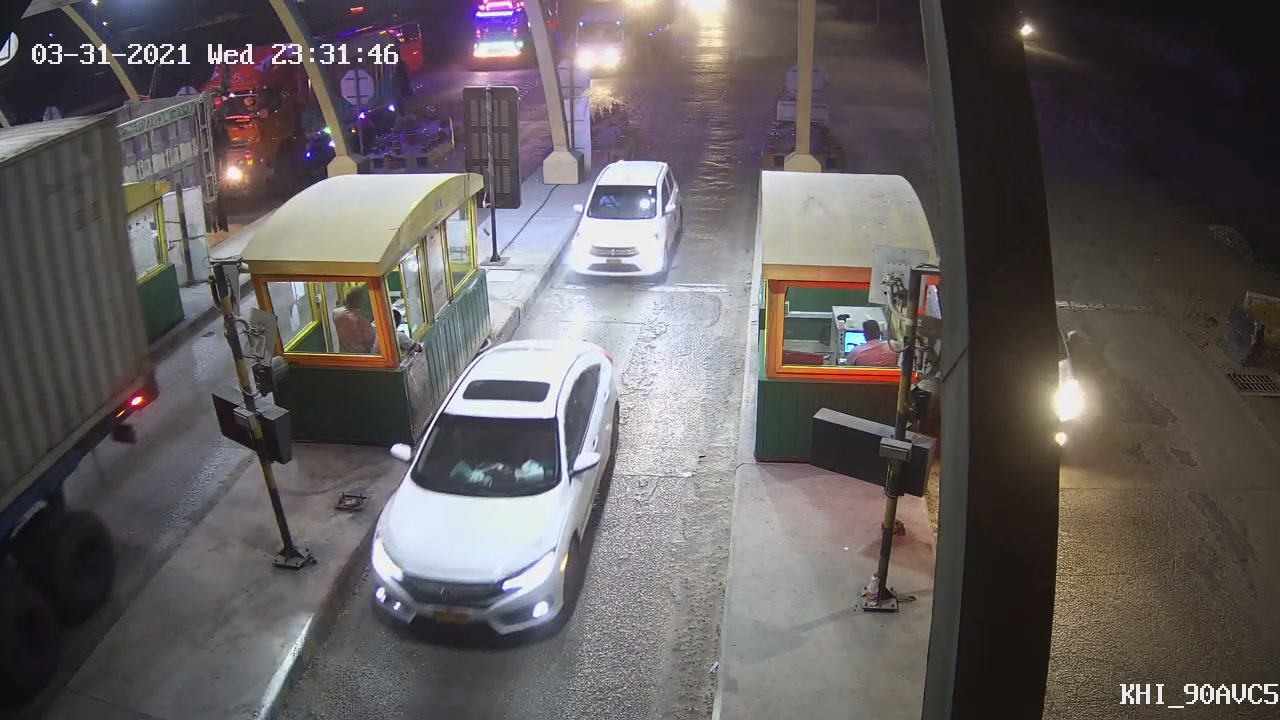F1: (338, 339, 637, 662), (565, 151, 685, 295)
